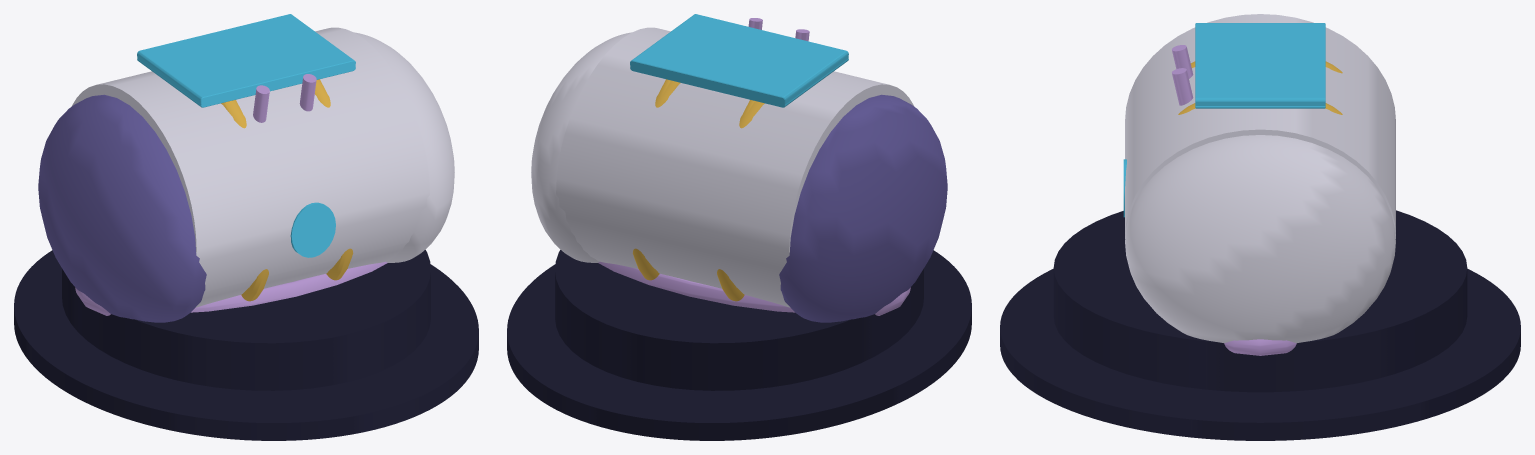
Rendered from 0358_航空航天图鉴_Measat-3b通信卫星.glb.
3 renders of one model, left to right at view 1: azimuth 30°, elevation 25°; view 2: azimuth 150°, elevation 25°; view 3: azimuth 270°, elevation 25°, orthographic.
Visible parts, largest first — view 1: card_0358; view 2: card_0358; view 3: card_0358.
Part boxes in pixels (x1,y1,x2,y2): card_0358: [14, 14, 478, 440]; card_0358: [507, 14, 971, 440]; card_0358: [1000, 14, 1520, 440].
Size of the model in its own units: 1.44 by 1 by 1.65.
